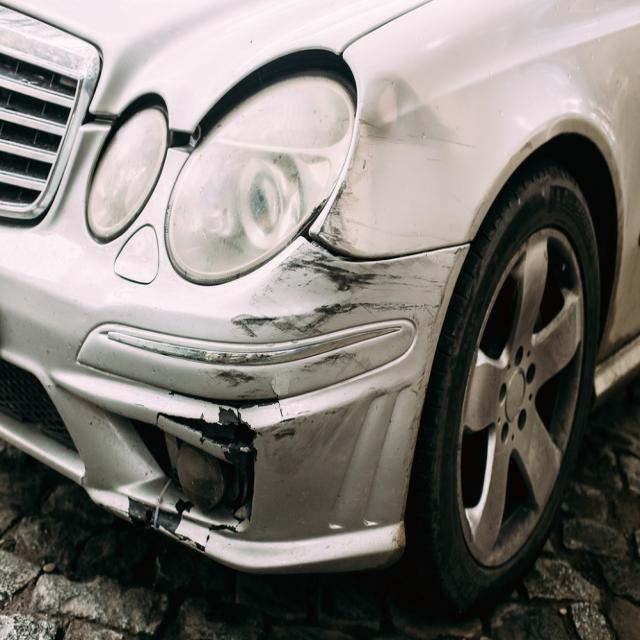crack: (154, 412, 257, 451), (164, 519, 245, 552)
dent: (325, 71, 468, 253)
scratch: (227, 240, 457, 342), (211, 340, 373, 398), (260, 402, 350, 475)
